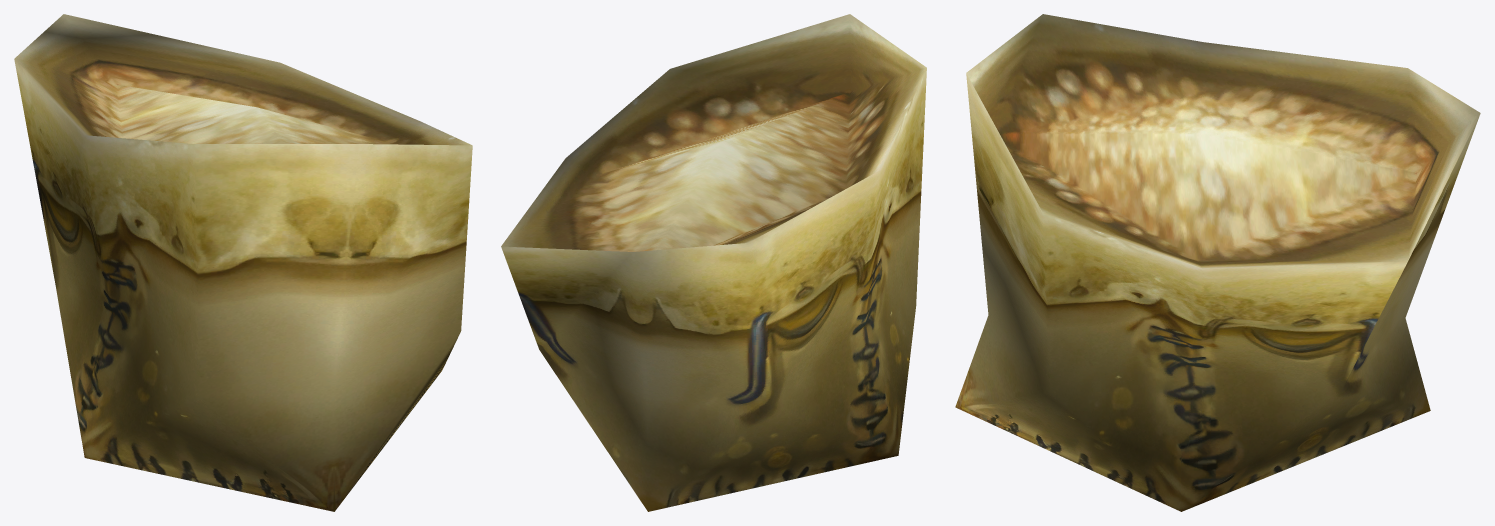
The model's file is sack02.obj.
3 renders of one model, left to right at view 1: azimuth 30°, elevation 25°; view 2: azimuth 150°, elevation 25°; view 3: azimuth 270°, elevation 25°, orthographic. The views are drawn at different scales.
Parts seen in each view (by area): view 1: sack02; view 2: sack02; view 3: sack02.
Boxes of the visible parts, <box> form: sack02: <box>14,14,472,511</box>; sack02: <box>501,14,926,511</box>; sack02: <box>955,14,1480,511</box>.
Bounding box in the file's own units: 0.561 × 0.5364 × 0.7322.
1 material, 1 textured.
